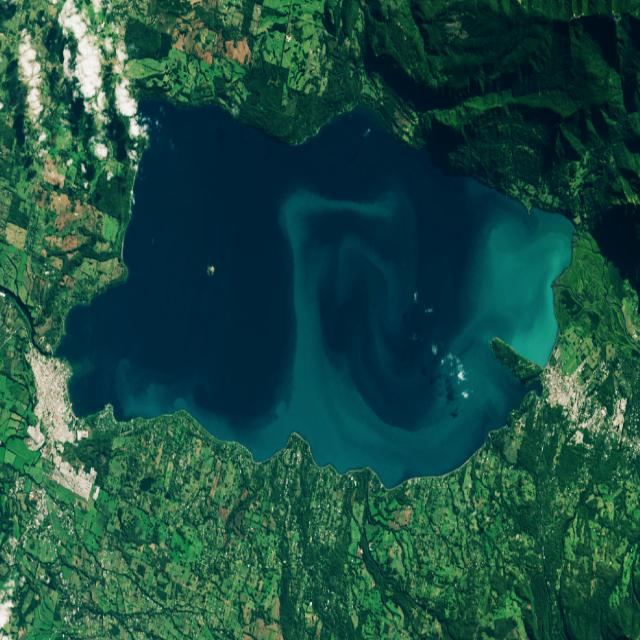algal: (281, 193, 554, 427), (282, 191, 434, 429), (118, 351, 389, 471)
